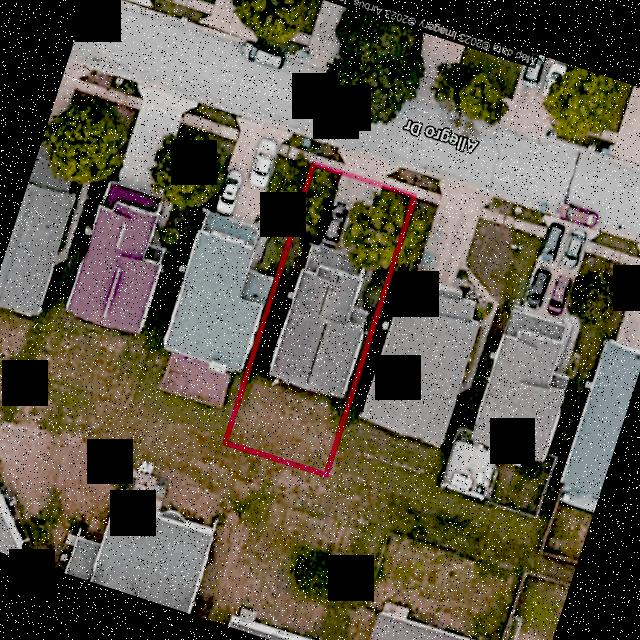Driveway: (323, 174, 383, 254)
Extra Driveway: (338, 148, 402, 183)
Extra Lawn: (386, 168, 426, 188), (314, 141, 344, 164)
Extra Sidewalk: (382, 176, 420, 196), (312, 154, 344, 172)
House: (269, 242, 370, 398)
